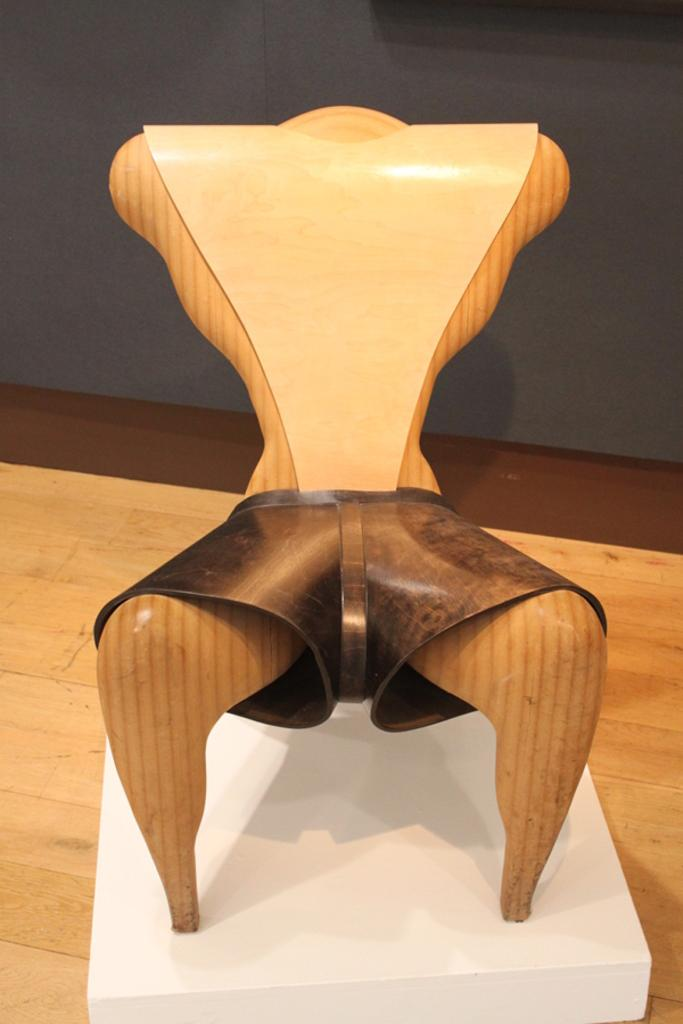Chair: (85, 96, 612, 928)
